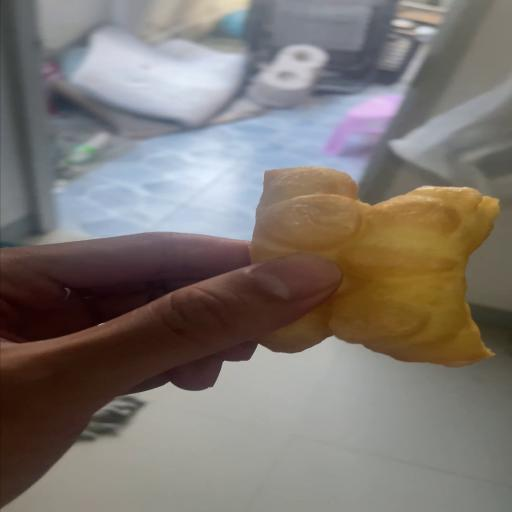street_golden_good: (250, 167, 499, 366)
